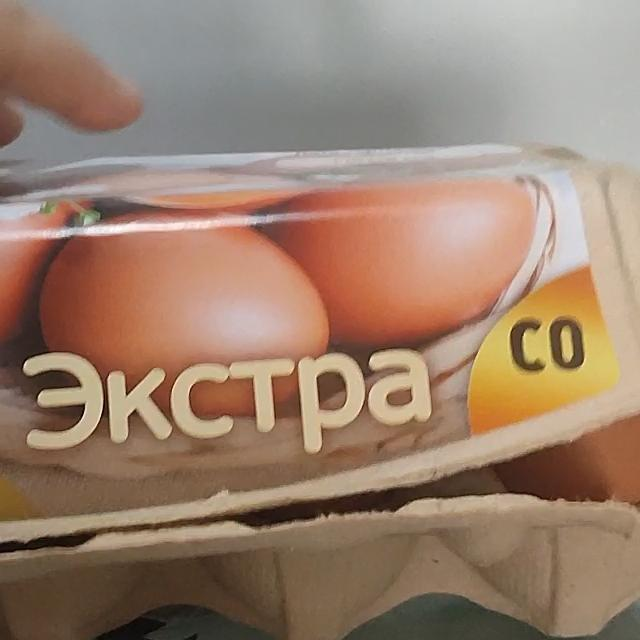egg: (0, 113, 640, 640)
